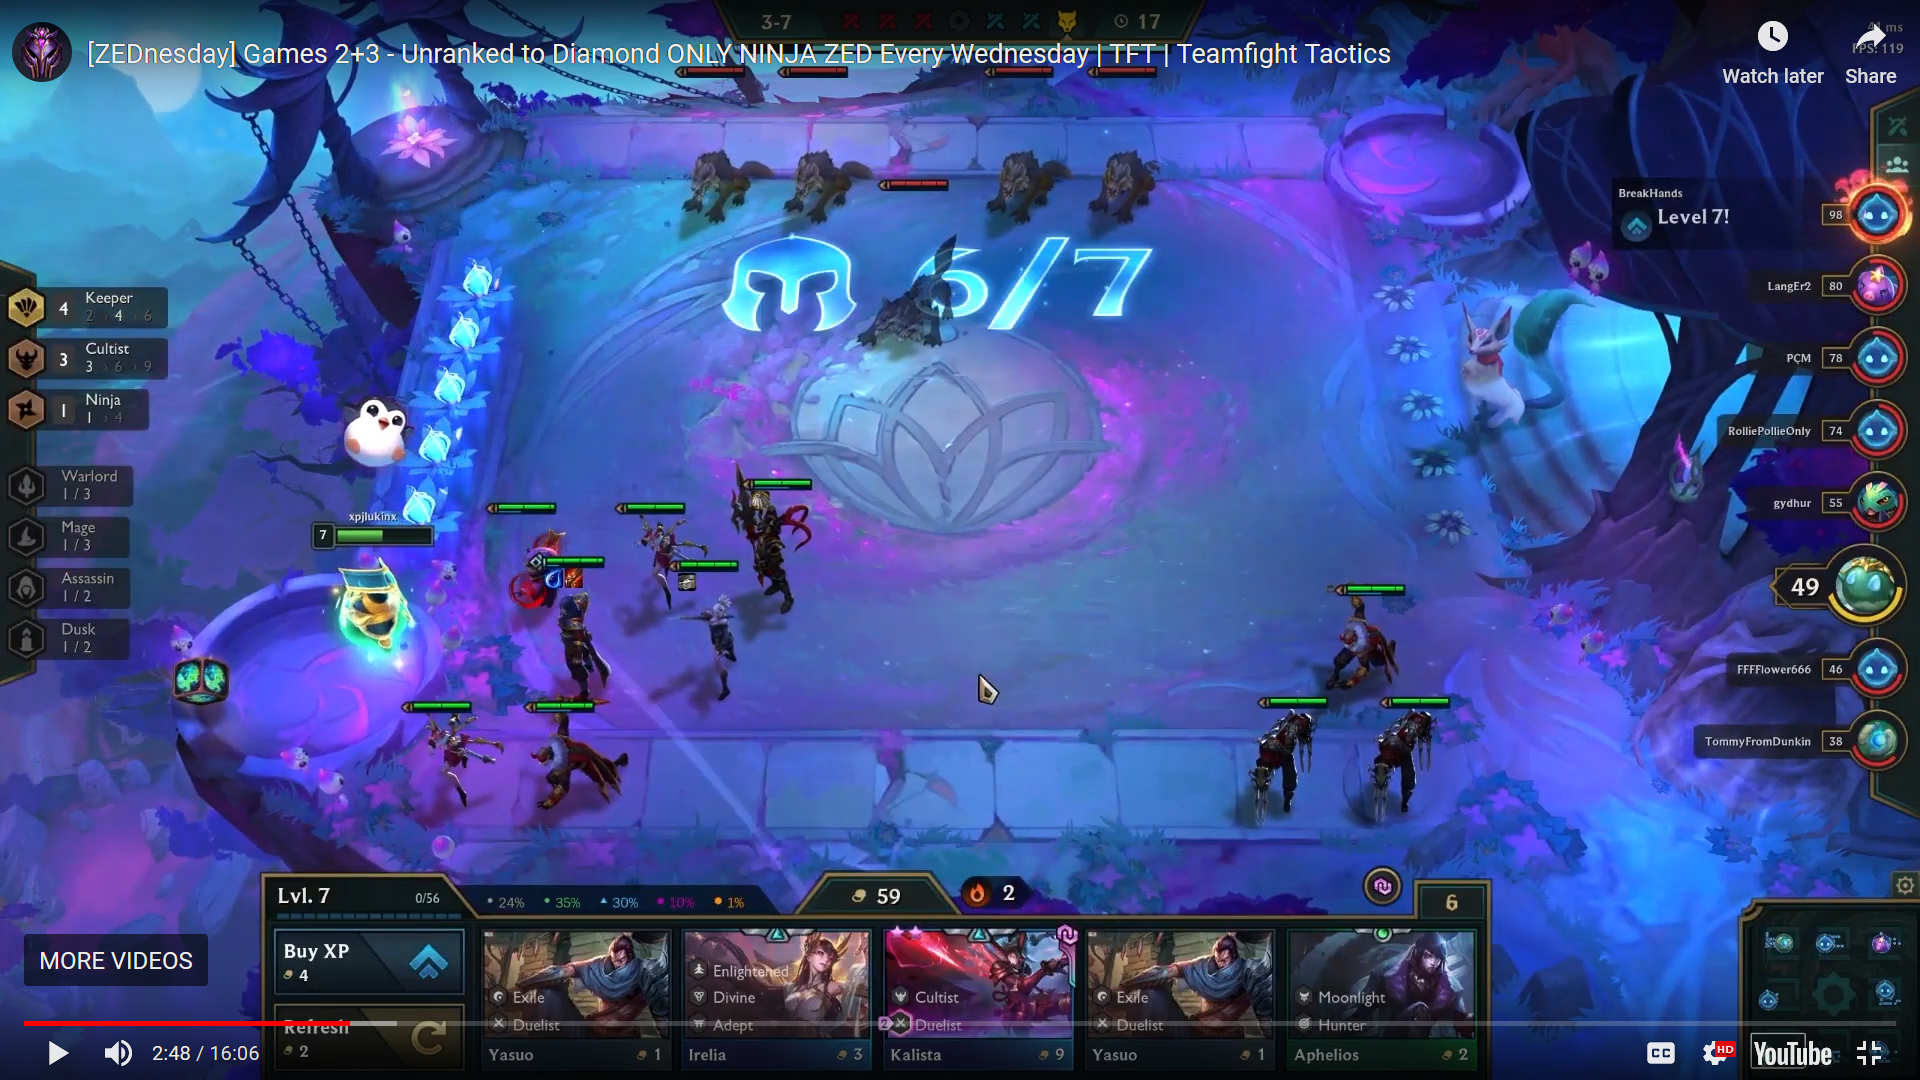1star_elise: (599, 491, 729, 629), (390, 688, 520, 828)
1star_jarvaniv: (717, 450, 823, 640)
1star_kennen: (476, 483, 578, 633)
1star_pyke: (513, 690, 644, 829), (1307, 568, 1416, 716)
1star_riven: (655, 553, 750, 717)
1star_zed: (1346, 688, 1456, 836), (1232, 691, 1340, 839)
2star_twistedfate: (516, 539, 630, 727)
item_belt: (675, 568, 700, 593)
item_negatron: (748, 487, 773, 512)
item_rfc: (560, 563, 585, 589)
item_tear: (541, 564, 564, 589)
trait_assassin1: (1, 559, 175, 615)
trait_cultist3: (1, 328, 175, 385)
trait_dusk1: (1, 608, 175, 665)
trait_keeper4: (1, 280, 175, 335)
trait_mage1: (1, 512, 175, 567)
trait_ninja1: (1, 378, 175, 434)
trait_warlord1: (1, 458, 175, 513)
